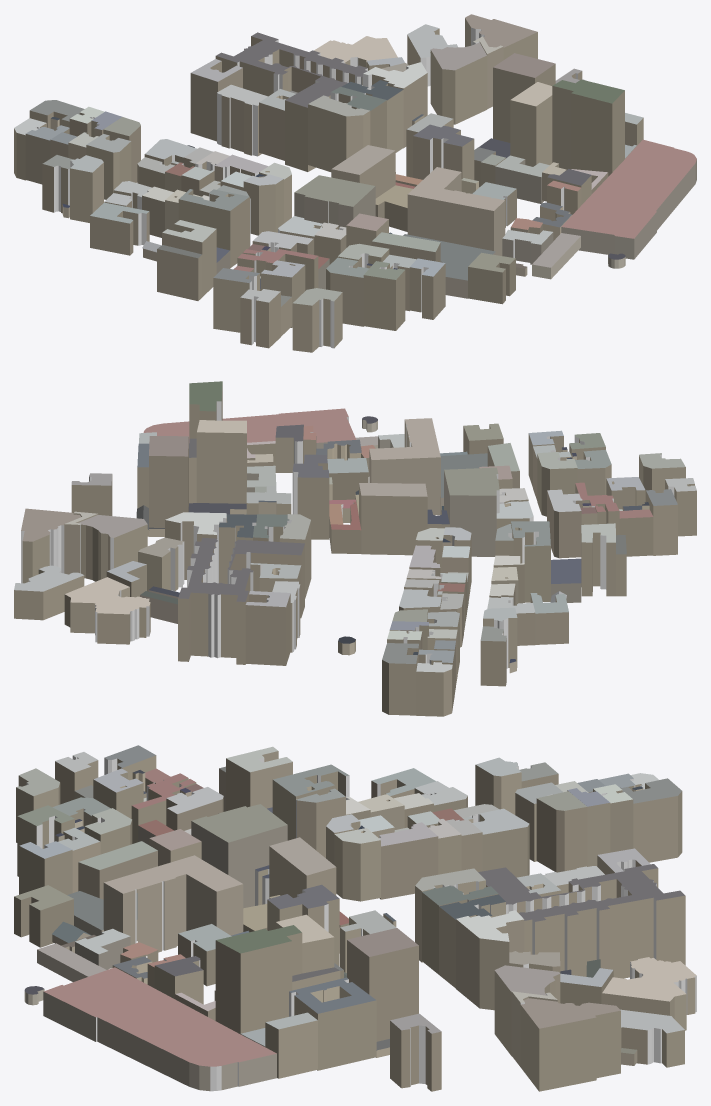
3 views of the same model, one above another, from view 1: azimuth 30°, elevation 25°; view 2: azimuth 150°, elevation 25°; view 3: azimuth 270°, elevation 25° (orthographic). The views are drawn at different scales.
Visible parts, largest first — view 1: tuile; view 2: tuile; view 3: tuile.
Part boxes in pixels (<box>): tuile: <box>14,14,696,352</box>; tuile: <box>14,381,696,716</box>; tuile: <box>14,745,696,1091</box>.
Size of the model in its own units: 277 by 53.79 by 269.
